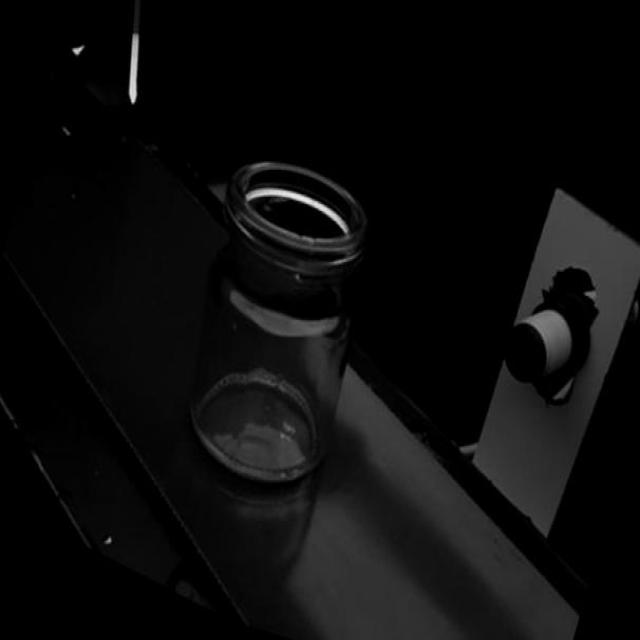defect: (283, 217, 328, 264)
glass: (146, 116, 406, 525)
